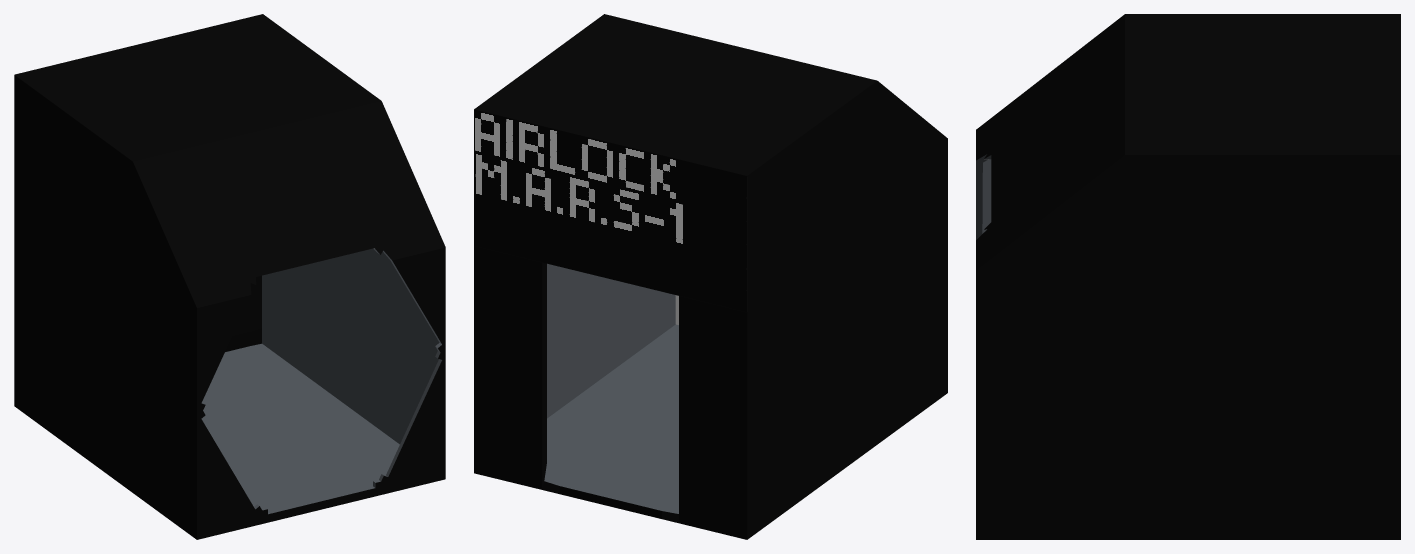
The model's file is Airlock.glb.
3 views of the same model, side by side, from view 1: azimuth 30°, elevation 25°; view 2: azimuth 150°, elevation 25°; view 3: azimuth 270°, elevation 25° (orthographic). The views are drawn at different scales.
Visible parts, largest first — view 1: Cube; view 2: Cube, Cube.001; view 3: Cube.
Boxes of the visible parts, left/top/right/bottom form: Cube: left=14, top=14, right=445, bottom=539; Cube: left=474, top=14, right=947, bottom=539; Cube.001: left=474, top=109, right=747, bottom=312; Cube: left=976, top=14, right=1400, bottom=539.
Bounding box in the file's own units: 3.14 × 4 × 4.
3 materials, 1 textured.
